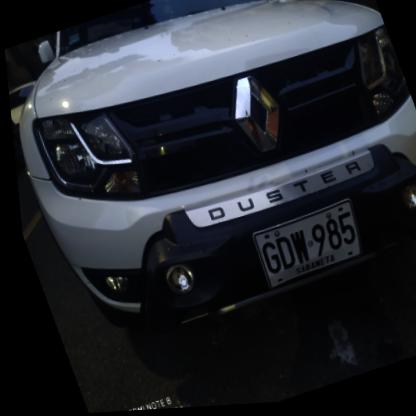placa: (237, 198, 371, 297)
